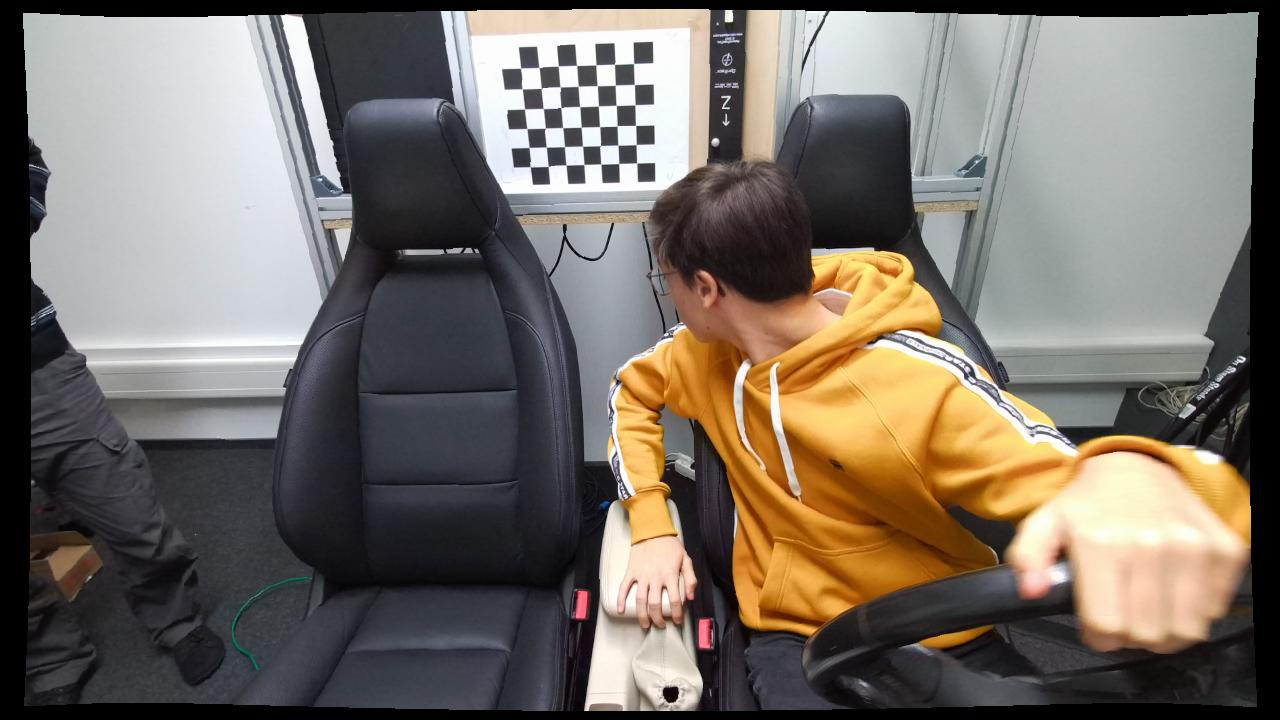Distracted: (595, 151, 1016, 712)
